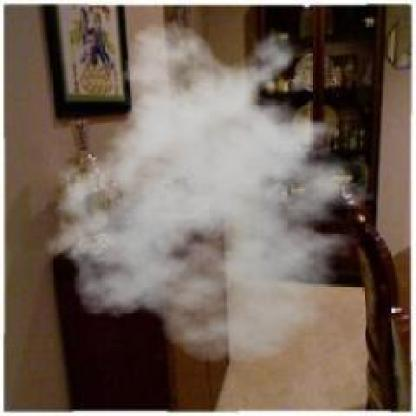Smoke: (35, 18, 390, 365)
